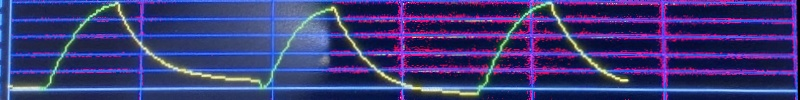normal_volume: (3, 0, 625, 97)
